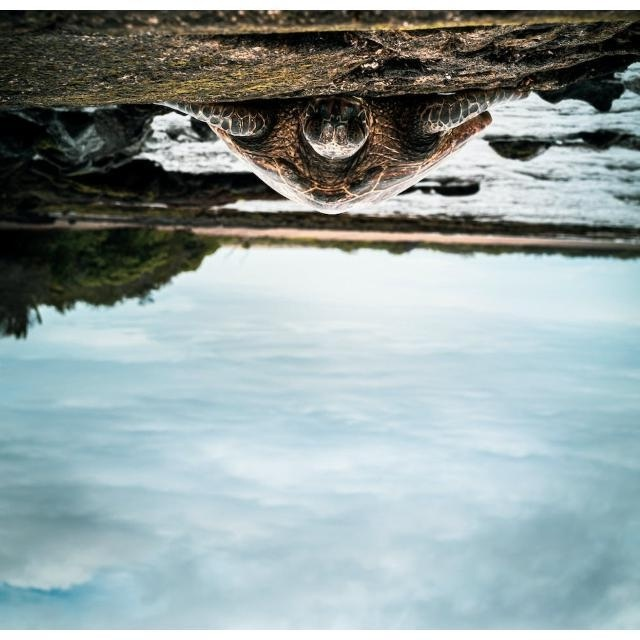turtle: (152, 86, 531, 214)
